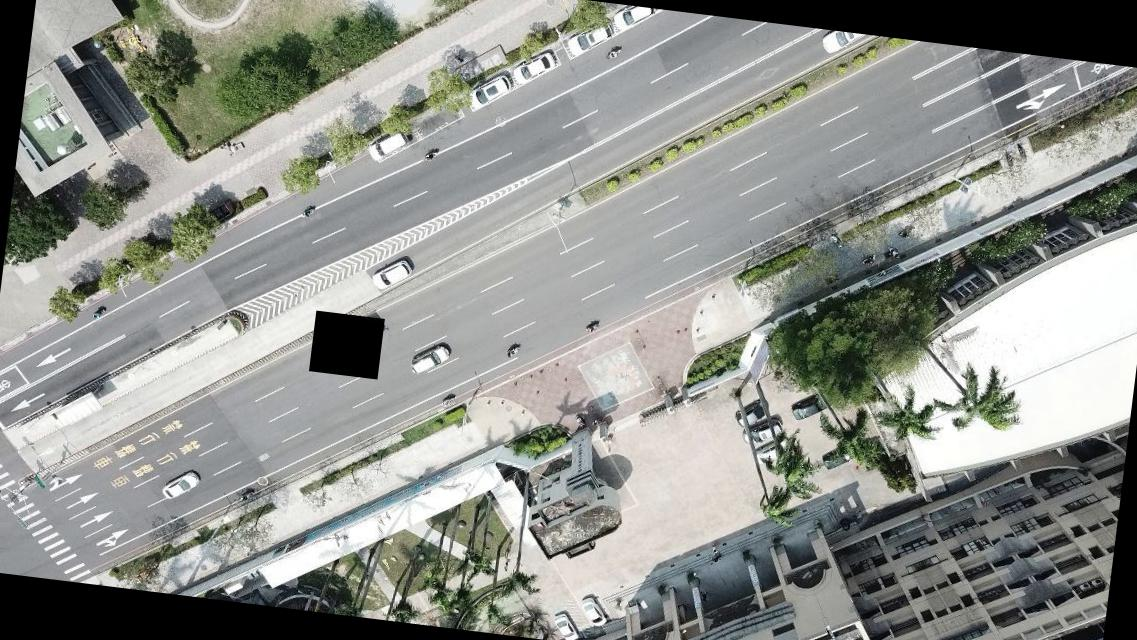vehicle: (564, 15, 618, 66), (609, 3, 663, 42), (370, 121, 414, 165), (468, 72, 509, 114), (512, 48, 554, 87), (370, 253, 413, 291), (410, 336, 452, 374), (159, 467, 202, 502), (733, 396, 772, 432), (751, 438, 792, 471), (742, 418, 783, 450), (788, 392, 826, 424), (816, 29, 862, 54), (576, 596, 609, 628), (818, 443, 854, 472), (550, 612, 584, 639)
